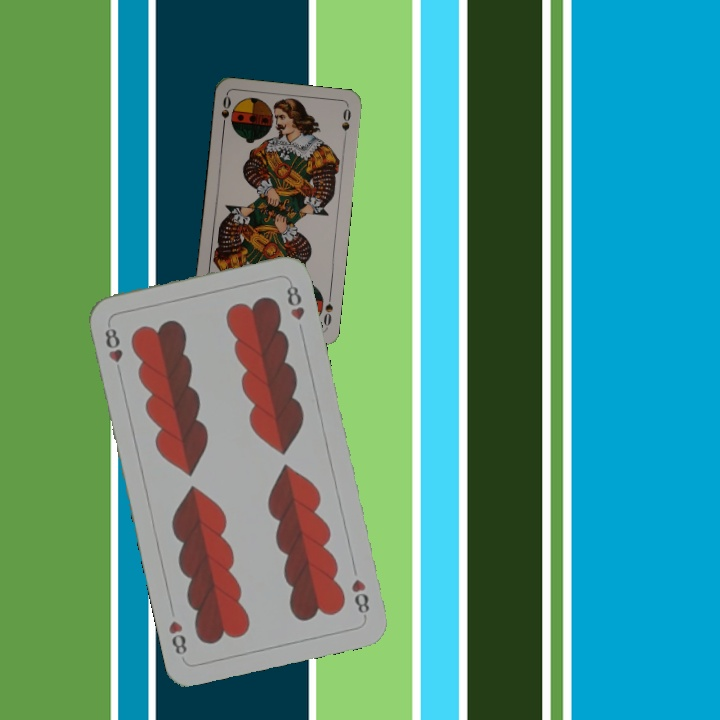H8: (101, 324, 125, 378), (347, 575, 372, 620)
SO: (217, 92, 233, 132), (319, 299, 335, 332)
